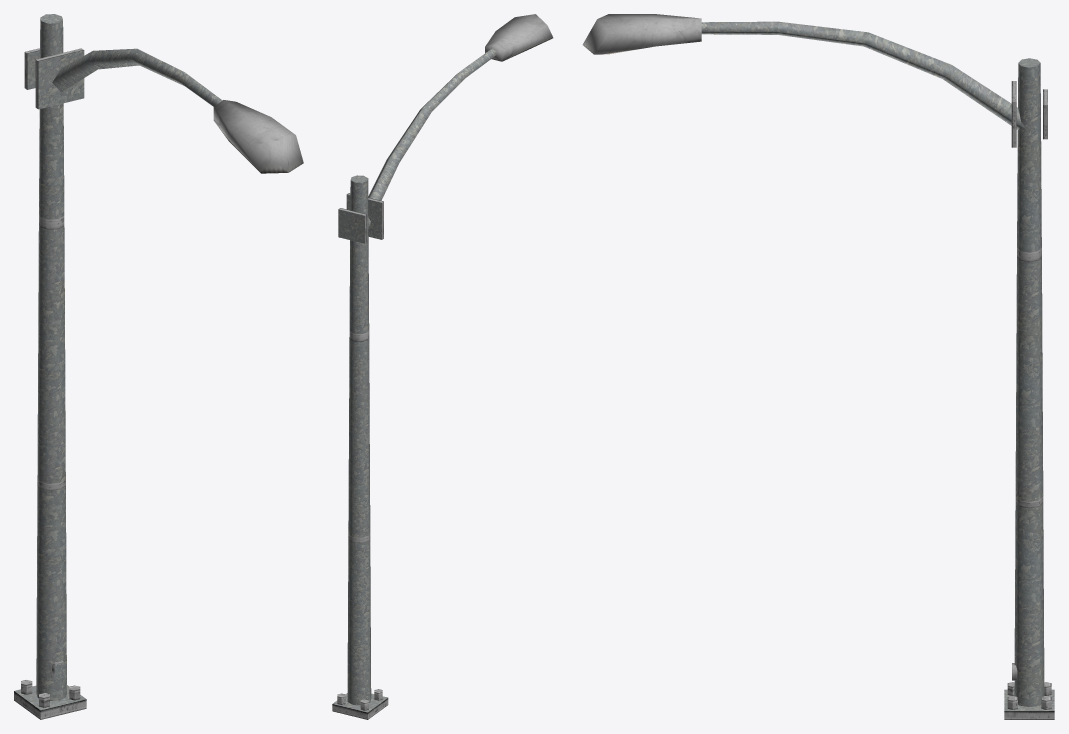
Rendered from Traffic-StreetLampA.fbx.
The picture shows the model from 3 angles, left to right: view 1: azimuth 30°, elevation 25°; view 2: azimuth 150°, elevation 25°; view 3: azimuth 270°, elevation 25°; orthographic projection. The views are drawn at different scales.
Visible parts, largest first — view 1: Traffic-StreetLampA; view 2: Traffic-StreetLampA; view 3: Traffic-StreetLampA.
Part boxes in pixels (x1,y1,x2,y2): Traffic-StreetLampA: (14, 14, 303, 719); Traffic-StreetLampA: (332, 14, 553, 719); Traffic-StreetLampA: (582, 14, 1054, 719).
Size of the model in its own units: 51.68 by 761 by 471.
